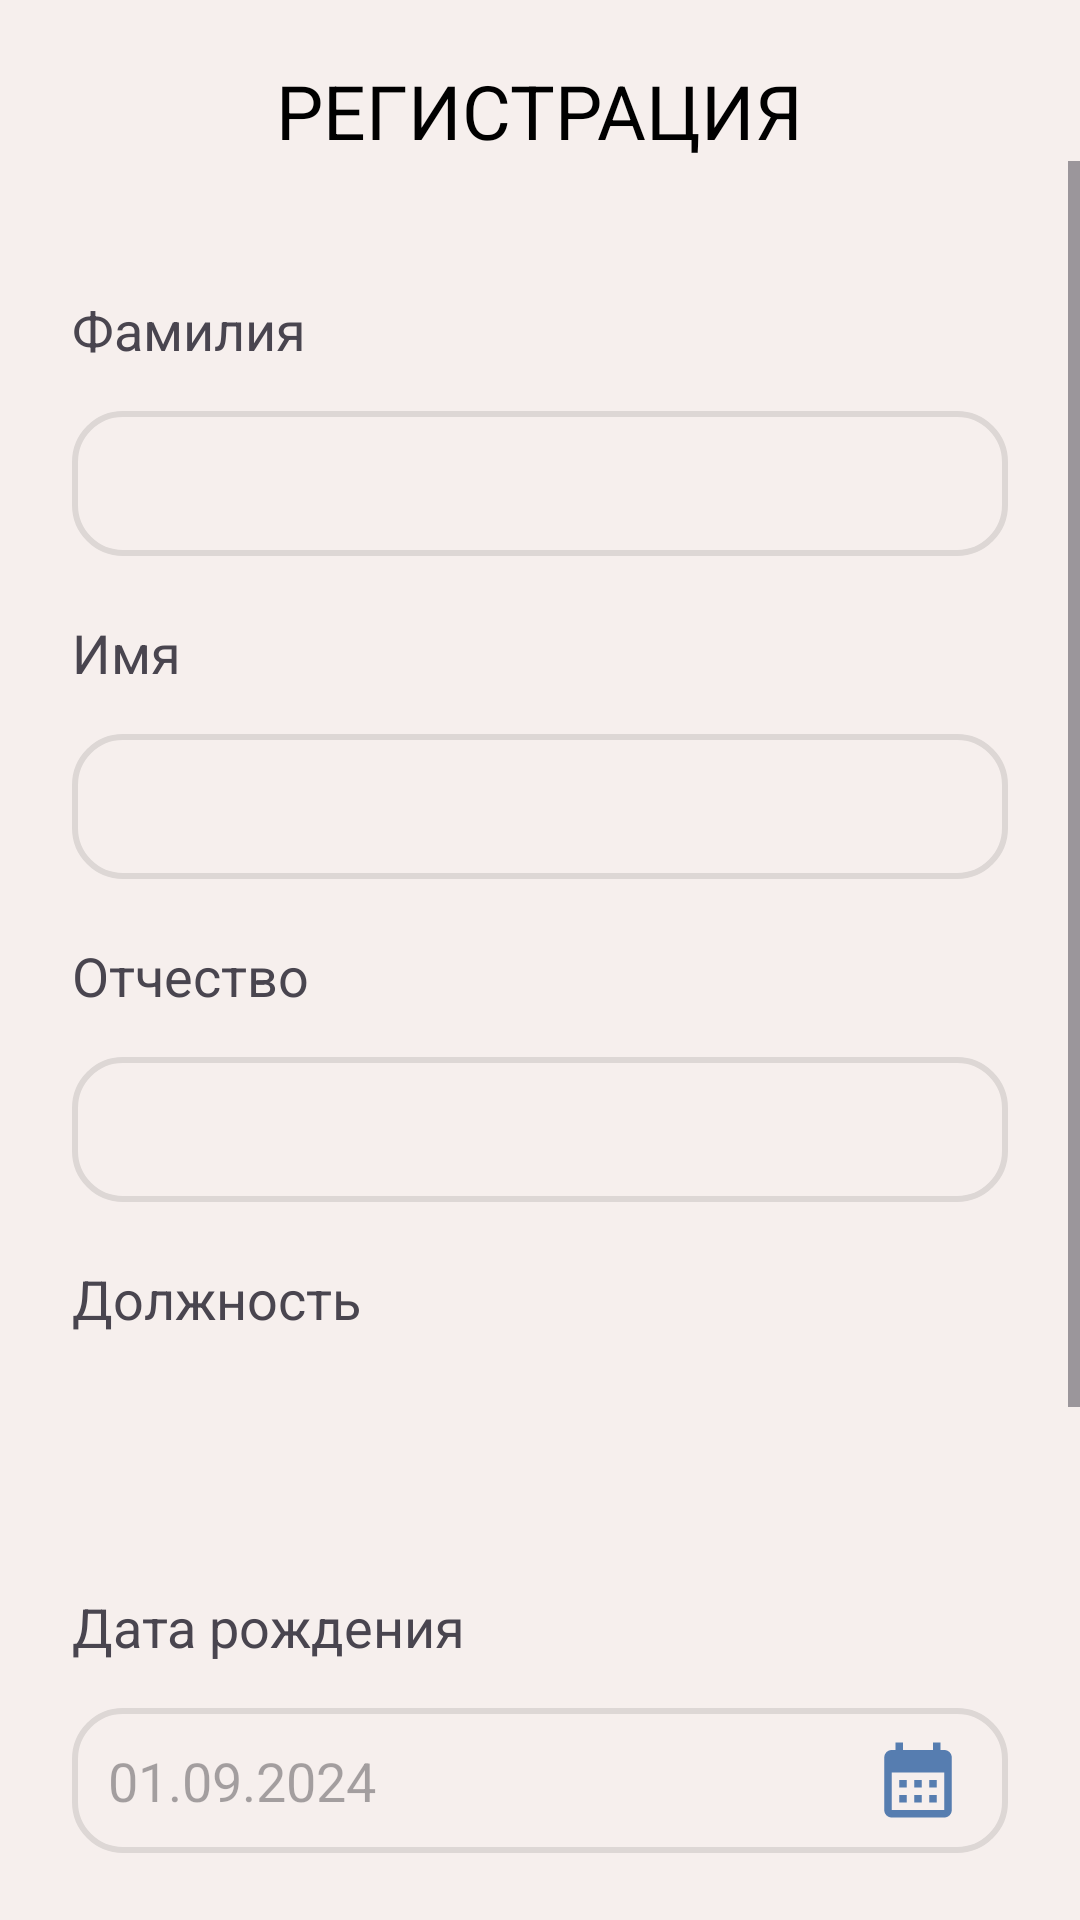

Screen size 1080w x 1920h. Icon name, then its center in pixels as point (x, y):
Календарь: point (918, 1780)
